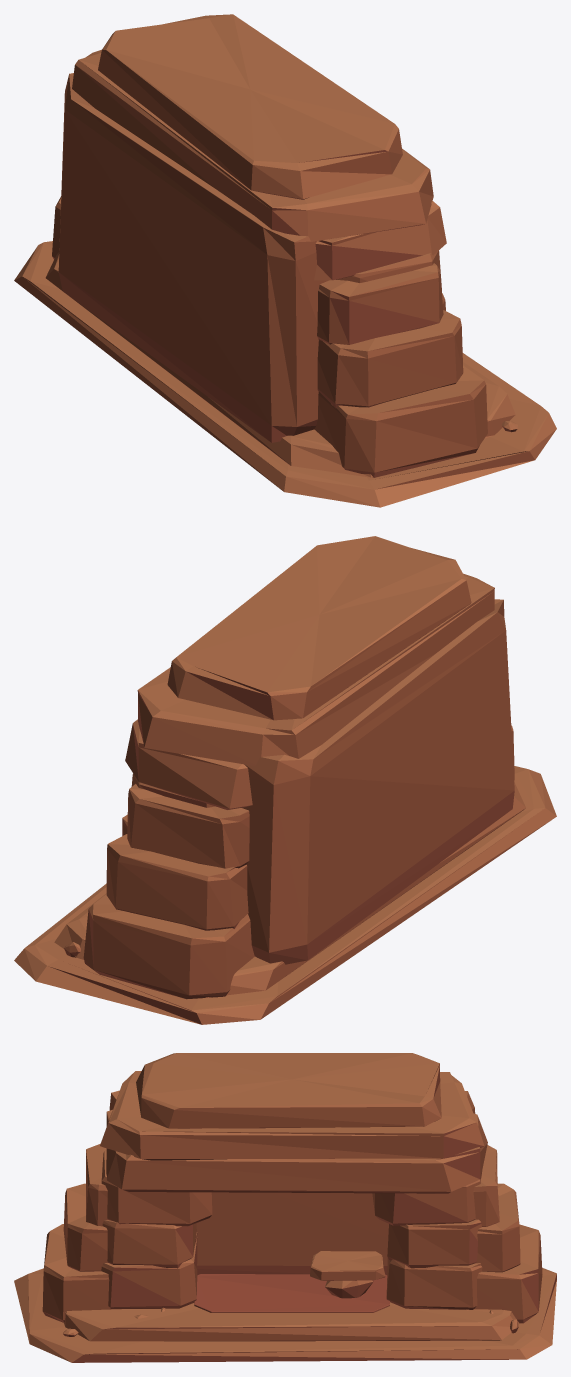
The model's file is asset.glb.
3 renders of one model, top to bottom at view 1: azimuth 30°, elevation 25°; view 2: azimuth 150°, elevation 25°; view 3: azimuth 270°, elevation 25°, orthographic. The views are drawn at different scales.
Visible parts, largest first — view 1: Recessed fractured back wall, Flat chipped crown, Chipped apron, Upper stepped shelf, Left lower outer buttress, Left middle outer buttress, Left high outer buttress, Overhanging broad lintel, Broad shelter terrace, Left inner arch shoulder; view 2: Recessed fractured back wall, Flat chipped crown, Chipped apron, Upper stepped shelf, Right lower outer buttress, Right middle outer buttress, Right high outer buttress, Overhanging broad lintel, Broad shelter terrace; view 3: Flat chipped crown, Upper stepped shelf, Chipped apron, Broad shelter terrace, Recessed fractured back wall, Overhanging broad lintel, Shelter floor, Left inner basal slab, Right inner basal slab, Right inner middle slab, Left lower outer buttress, Right lower outer buttress (+9 smaller).
Part boxes in pixels (x1,y1,x2,y2): Recessed fractured back wall: [58, 73, 328, 442]; Flat chipped crown: [98, 14, 402, 199]; Chipped apron: [14, 241, 556, 507]; Upper stepped shelf: [72, 49, 433, 241]; Left lower outer buttress: [314, 365, 487, 477]; Left middle outer buttress: [317, 310, 463, 408]; Left high outer buttress: [317, 263, 443, 344]; Overhanging broad lintel: [314, 200, 446, 280]; Broad shelter terrace: [45, 252, 515, 477]; Left inner arch shoulder: [336, 250, 441, 290]; Recessed fractured back wall: [241, 599, 514, 964]; Flat chipped crown: [167, 536, 471, 720]; Chipped apron: [14, 766, 556, 1024]; Upper stepped shelf: [137, 573, 494, 765]; Right lower outer buttress: [83, 894, 254, 999]; Right middle outer buttress: [106, 834, 248, 930]; Right high outer buttress: [127, 784, 249, 868]; Overhanging broad lintel: [125, 719, 252, 809]; Broad shelter terrace: [54, 782, 525, 997]; Flat chipped crown: [136, 1053, 441, 1128]; Upper stepped shelf: [100, 1071, 484, 1160]; Chipped apron: [14, 1268, 556, 1362]; Broad shelter terrace: [64, 1302, 519, 1341]; Recessed fractured back wall: [109, 1090, 475, 1275]; Overhanging broad lintel: [106, 1109, 487, 1193]; Shelter floor: [194, 1274, 389, 1312]; Left inner basal slab: [101, 1232, 197, 1308]; Right inner basal slab: [386, 1257, 482, 1309]; Right inner middle slab: [387, 1219, 481, 1268]; Left lower outer buttress: [42, 1224, 121, 1322]; Right lower outer buttress: [474, 1224, 542, 1323].
Size of the model in its own units: 5.52 by 5.47 by 12.21.
